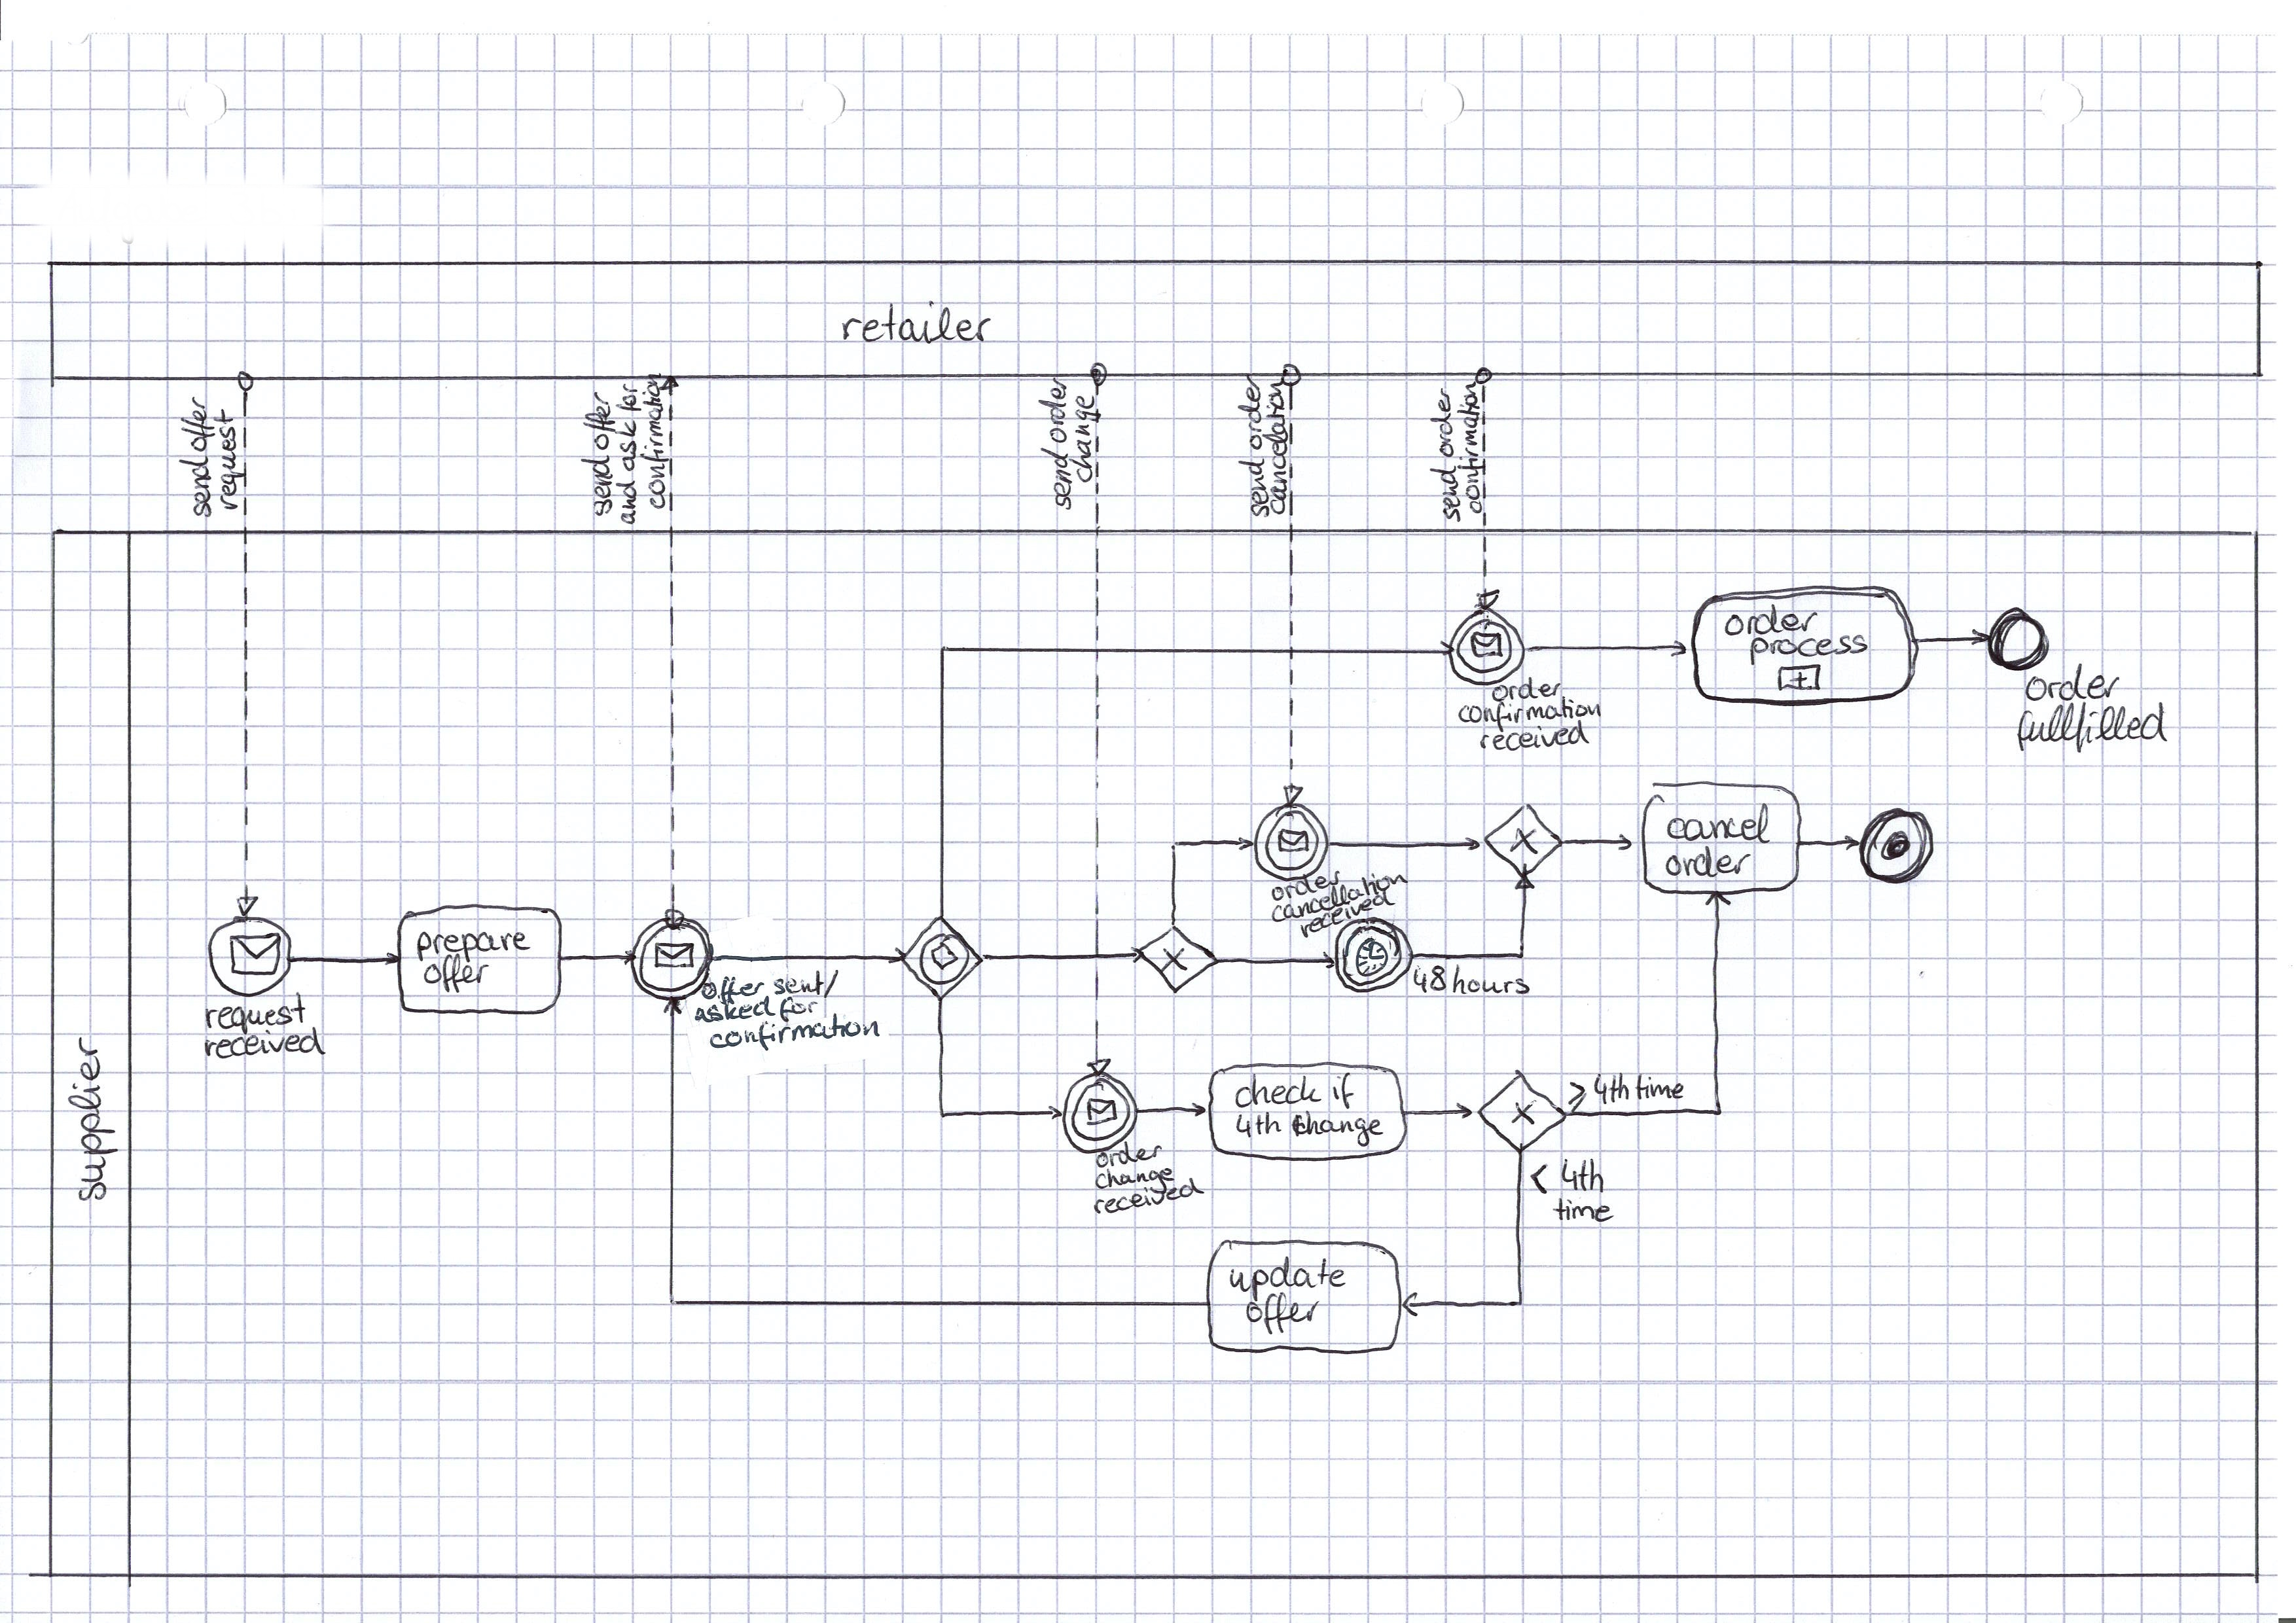48: (1412, 966, 1449, 998)
4th: (1560, 1161, 1609, 1198), (1237, 1112, 1284, 1142), (1597, 1075, 1627, 1112)
Change: (1094, 1163, 1175, 1191)
and: (615, 472, 645, 523)
ask: (615, 422, 645, 467)
asked: (690, 996, 776, 1028)
cancel: (1667, 811, 1773, 847)
cancelation: (1263, 367, 1300, 513)
cancellation: (1270, 864, 1407, 926)
change: (1289, 1112, 1383, 1145), (1068, 393, 1096, 485)
check: (1233, 1075, 1319, 1112)
confirmation: (708, 1010, 889, 1052), (1458, 694, 1604, 729), (643, 371, 678, 513), (1458, 374, 1488, 516)
for: (778, 994, 822, 1021), (615, 381, 645, 416)
fullfilled: (2011, 699, 2173, 755)
hours: (1451, 966, 1535, 1003)
if: (1325, 1075, 1360, 1110)
offer: (694, 971, 773, 1010), (1245, 1295, 1323, 1331), (581, 392, 618, 450), (177, 399, 216, 453), (423, 959, 487, 991)
order: (2027, 666, 2120, 706), (1722, 606, 1822, 639), (1664, 847, 1755, 880), (1272, 866, 1344, 903), (1235, 378, 1272, 450), (1425, 386, 1456, 455), (1096, 1138, 1163, 1170), (1495, 674, 1560, 704), (1040, 386, 1075, 441)
prepare: (413, 927, 532, 961)
process: (1753, 631, 1869, 662)
received: (1296, 889, 1397, 940), (1091, 1175, 1205, 1217), (202, 1029, 325, 1063), (1477, 720, 1592, 755)
request: (213, 402, 248, 513), (204, 998, 311, 1031)
retailer: (838, 307, 993, 350)
send: (1240, 455, 1274, 520), (183, 460, 218, 518), (1043, 448, 1073, 511), (1433, 460, 1463, 522), (583, 457, 613, 515)
sent/: (773, 966, 841, 999)
supplier: (65, 1038, 112, 1208)
time: (1625, 1073, 1685, 1110), (1551, 1198, 1613, 1224)
update: (1231, 1259, 1349, 1296)
